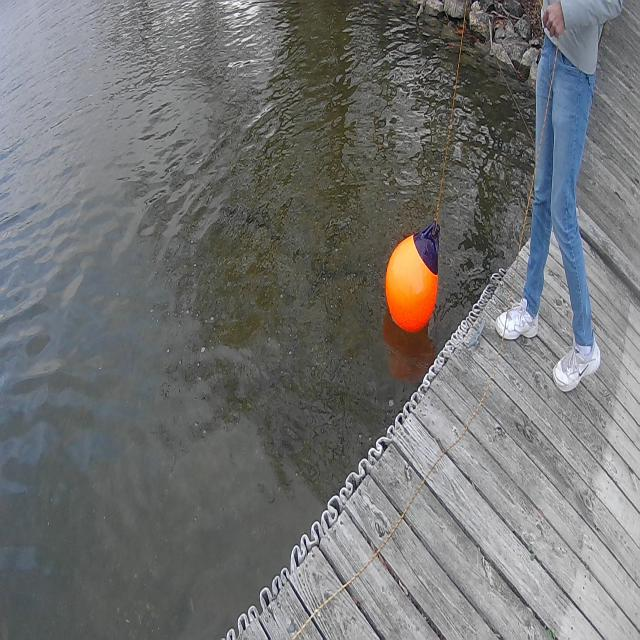Buoy: (377, 201, 448, 343)
